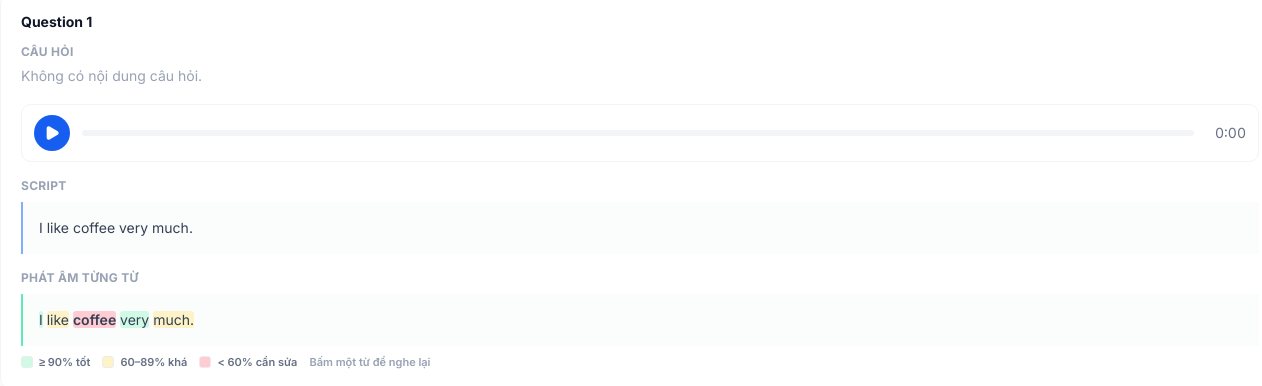
Test: SpeakingAnswerCard — pronunciation block › reveals the score on hover and hides it on leave
Hover over the text with test id "speaking-word" showing "like" at (58, 320), box left=47, top=311, right=69, bottom=328
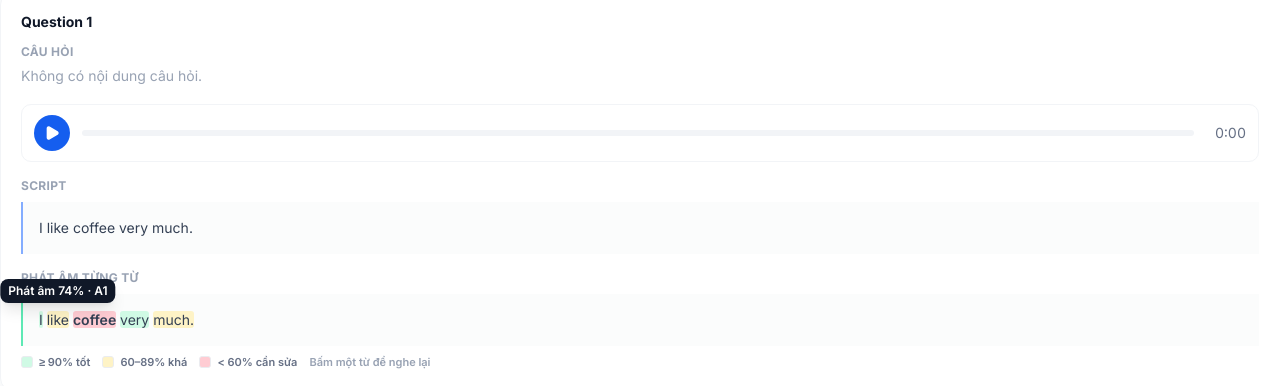
Expected: the text "Phát âm 74% · A1" is shown, left=0, top=279, right=116, bottom=303
Move the pointer off the text with test id "speaking-word" showing "like", box left=47, top=311, right=69, bottom=328
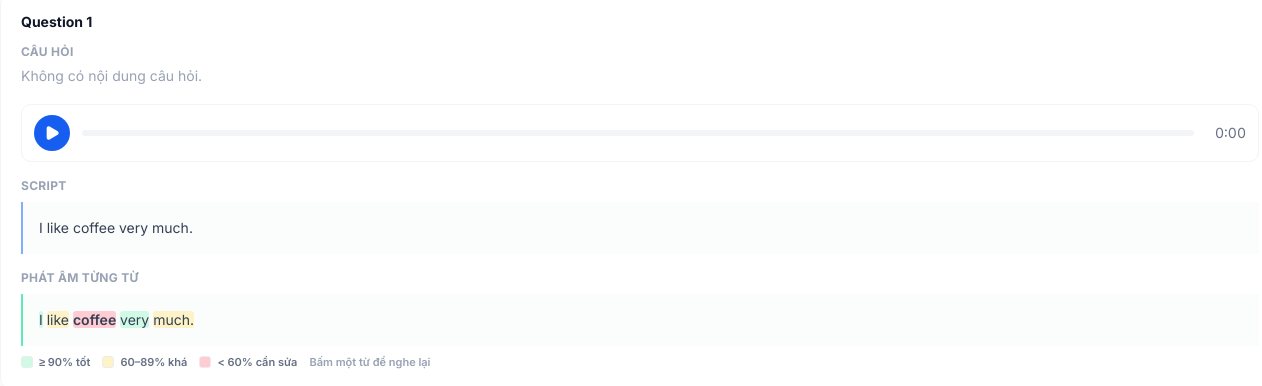
Expected: the text "Phát âm 74% · A1" is gone
